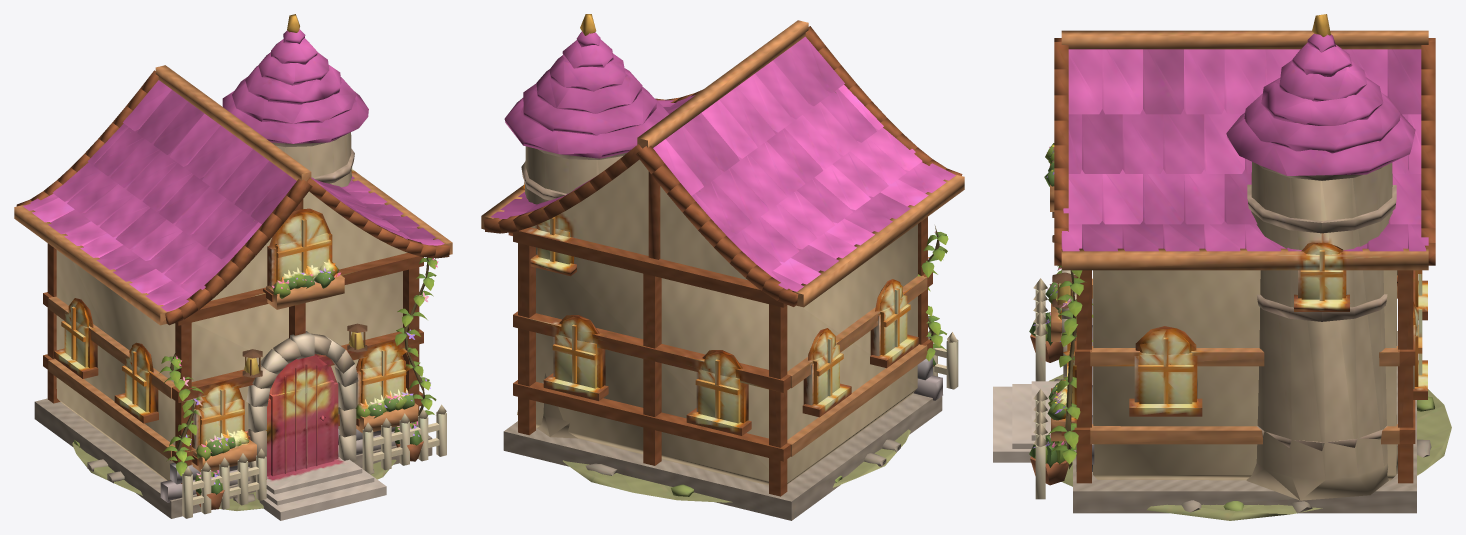
The model's file is bld_lily_house.glb.
The picture shows the model from 3 angles, left to right: view 1: azimuth 30°, elevation 25°; view 2: azimuth 150°, elevation 25°; view 3: azimuth 270°, elevation 25°; orthographic projection. The views are drawn at different scales.
Parts seen in each view (by area): view 1: Body; view 2: Body; view 3: Body.
Boxes of the visible parts, x1,y1,x2,y2 form: Body: (14,14,452,520); Body: (481,14,964,520); Body: (993,14,1451,520).
Bounding box in the file's own units: 4.34 × 5.17 × 4.53.
1 material, 1 textured.
